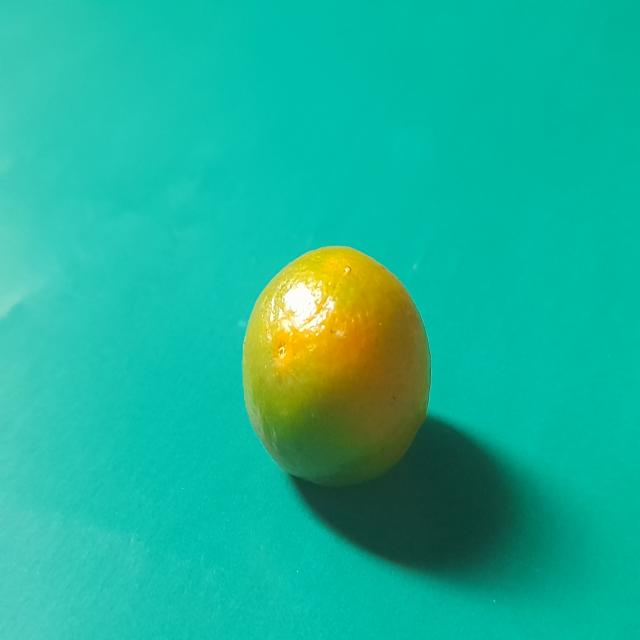greening: (241, 241, 436, 492)
